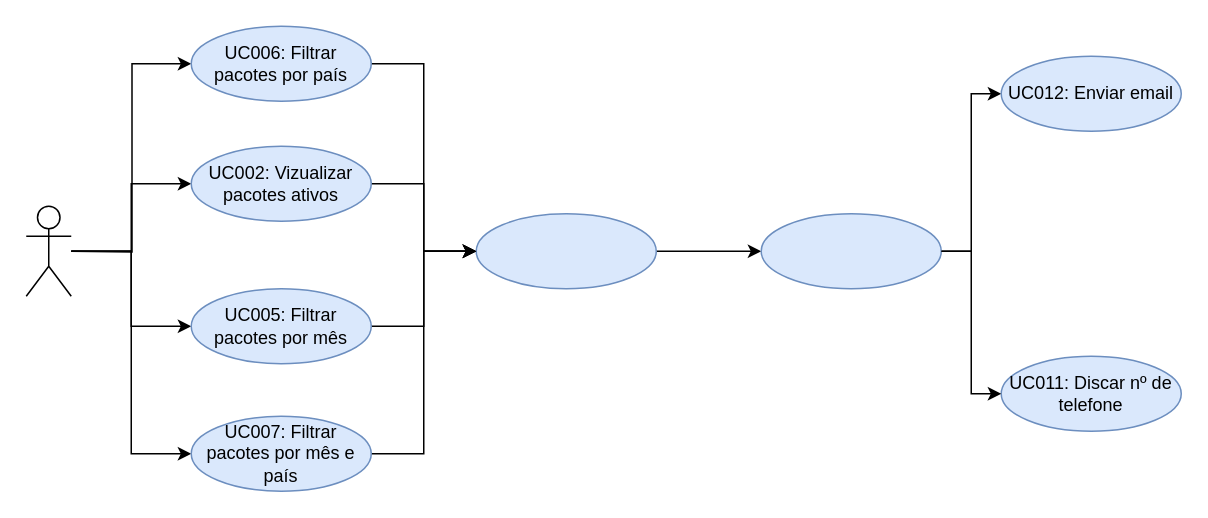
Image size: 1208x518. Some labels were removed from this diagram. The centre of each missing label's shape, as x and y in pixels:
"Actor" belongs at (x=48, y=250).
"UC010: Selecionar pacote" belongs at (x=565, y=250).
"UC014: Vizualizar detalhes" belongs at (x=850, y=250).
